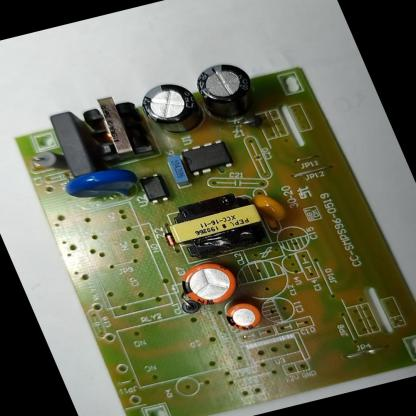Cap1: (175, 257, 243, 311)
Cap2: (222, 299, 266, 334)
Cap3: (135, 77, 207, 139)
Cap4: (190, 58, 265, 124)
MOSFET: (180, 138, 234, 177)
Mov: (60, 162, 145, 210)
Resistor: (30, 146, 71, 178)
Transformer: (163, 188, 278, 265), (74, 88, 160, 167)
